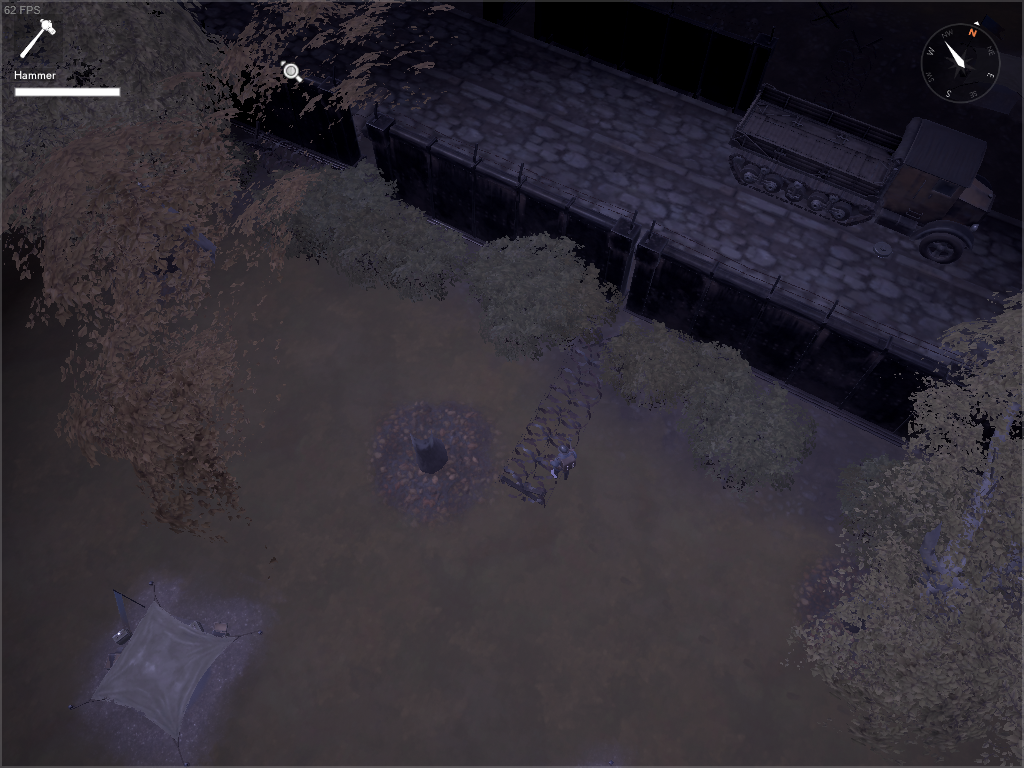flatbed: (724, 70, 997, 267)
fortified_wall: (618, 213, 1024, 493), (365, 96, 646, 310), (151, 25, 381, 184)
foxhole: (64, 576, 277, 768)
player: (544, 438, 578, 483)
wire: (495, 313, 632, 509), (239, 126, 375, 218)
